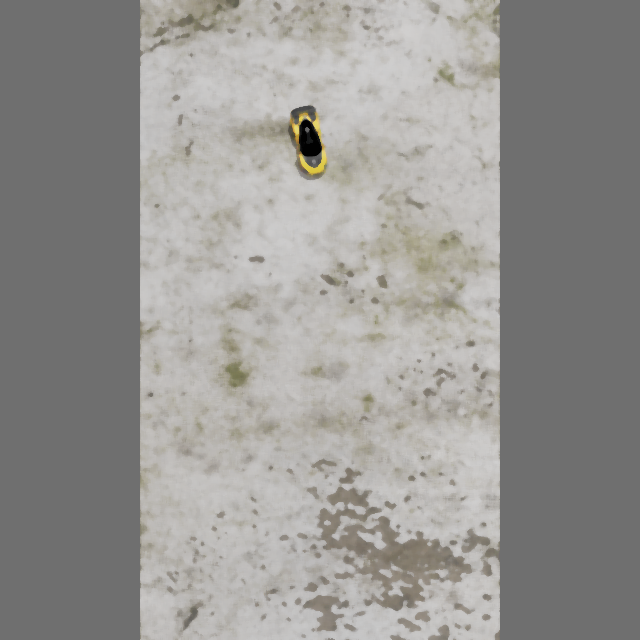car: (286, 102, 330, 179)
